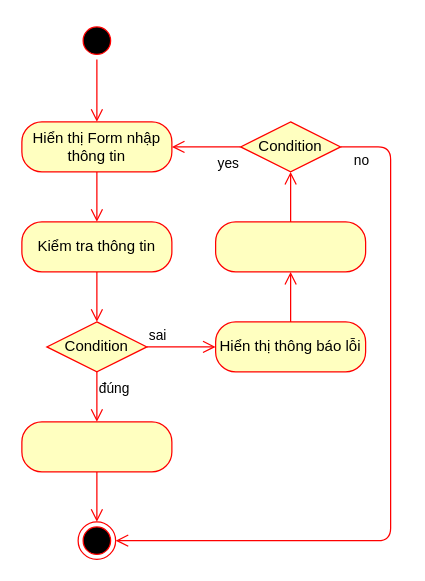
The diagram is 425 pixels wide and 581 high, and some of its shapes have lost their labels. The centre of each missing label's shape, as x and y in pixels:
Hiển thị bản CV mẫu: [96,446]
Nhập lại: [290,246]
